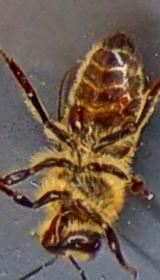varroa_mite: (67, 98, 98, 132), (106, 82, 140, 110)
